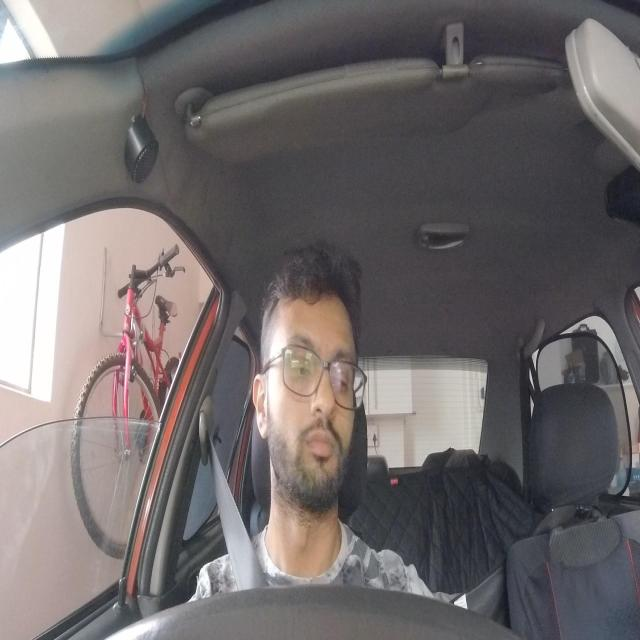open: (287, 332, 316, 389), (328, 344, 356, 402)
